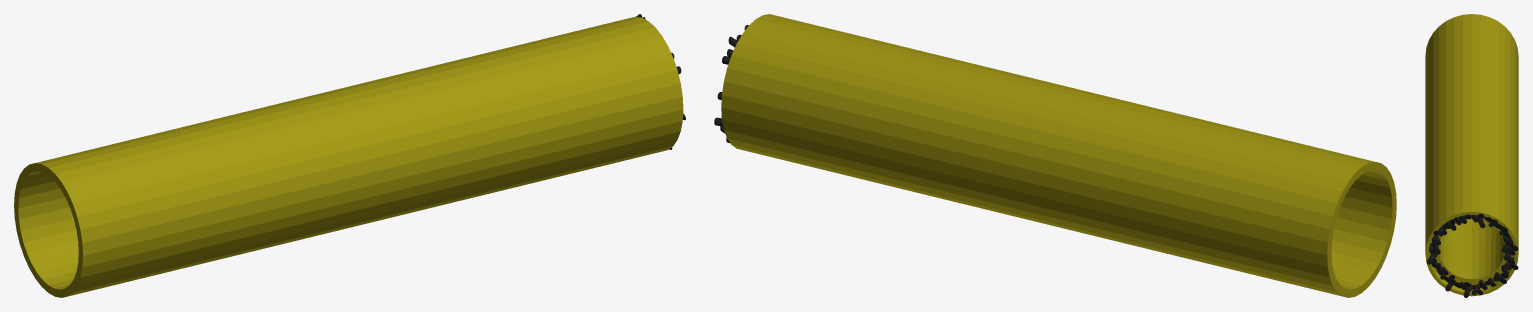
The model's file is yelltube.fbx.
The picture shows the model from 3 angles, left to right: view 1: azimuth 30°, elevation 25°; view 2: azimuth 150°, elevation 25°; view 3: azimuth 270°, elevation 25°; orthographic projection. The views are drawn at different scales.
Visible parts, largest first — view 1: Cylinder; view 2: Cylinder; view 3: Cylinder.
Part boxes in pixels (<box>): Cylinder: <box>14,16,683,297</box>; Cylinder: <box>721,14,1396,297</box>; Cylinder: <box>1425,14,1518,296</box>.
Size of the model in its own units: 896 by 175 by 174.
